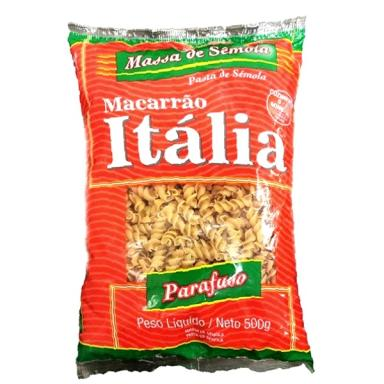pasta package: (69, 18, 312, 377)
